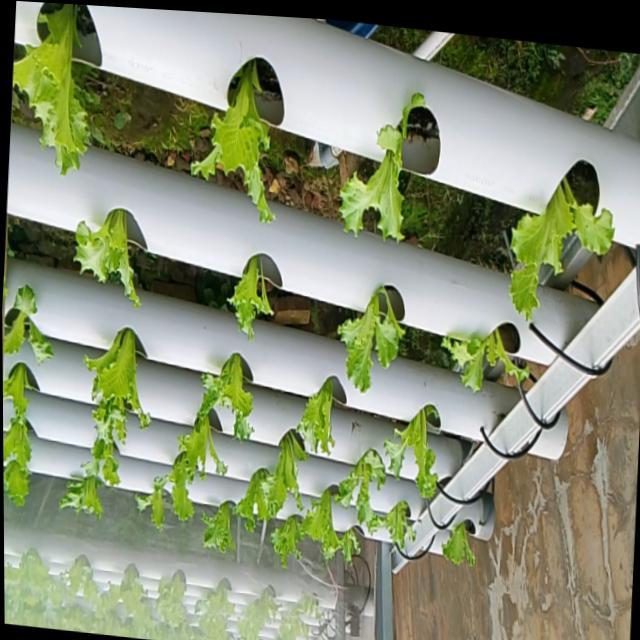Baby: (510, 171, 613, 314), (191, 55, 273, 218), (340, 88, 425, 237), (13, 4, 89, 170), (338, 285, 405, 390), (156, 408, 228, 500), (76, 207, 140, 305), (443, 328, 532, 392), (249, 427, 309, 519), (190, 472, 249, 560), (384, 403, 439, 497), (89, 326, 143, 412), (302, 487, 361, 563), (335, 446, 387, 530), (5, 283, 54, 363), (228, 254, 273, 337), (93, 375, 133, 466), (214, 352, 253, 437), (297, 374, 337, 452), (369, 499, 417, 553), (3, 417, 32, 500), (135, 475, 173, 530), (60, 475, 103, 519), (271, 514, 304, 567), (442, 524, 476, 567)
